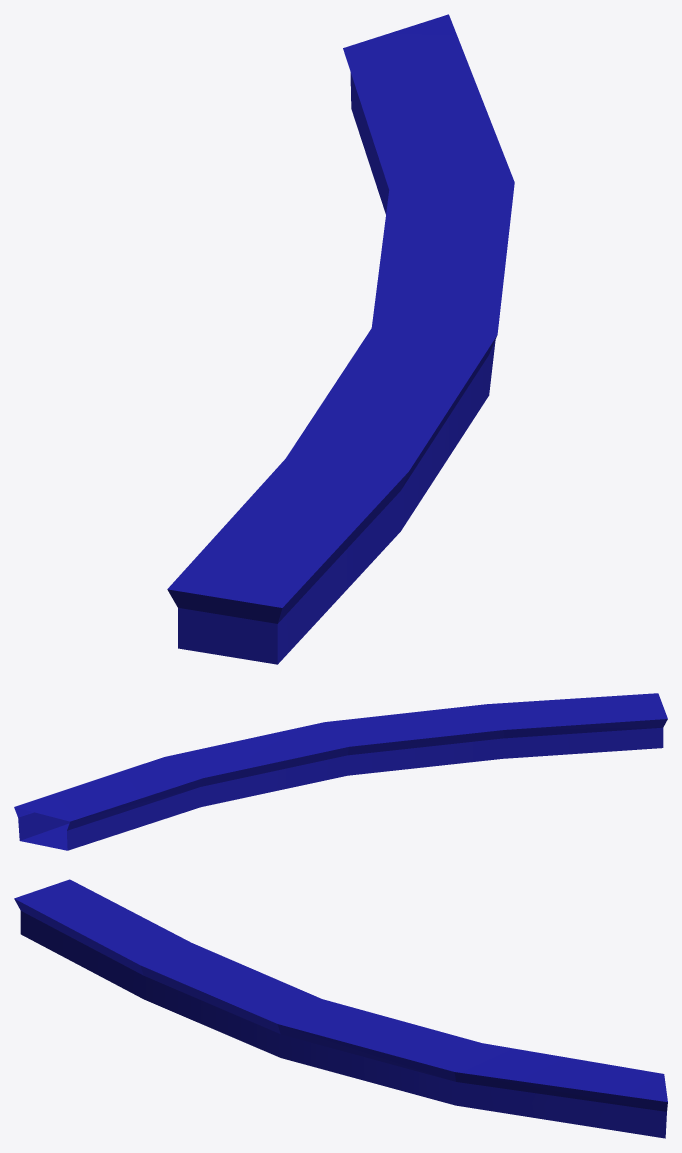
The model's file is Trilho_Curva.FBX.
3 renders of one model, top to bottom at view 1: azimuth 30°, elevation 25°; view 2: azimuth 150°, elevation 25°; view 3: azimuth 270°, elevation 25°, orthographic. The views are drawn at different scales.
Visible parts, largest first — view 1: Trilho_Curva; view 2: Trilho_Curva; view 3: Trilho_Curva.
Boxes of the visible parts, x1=… form: Trilho_Curva: x1=167, y1=14, x2=514, y2=664; Trilho_Curva: x1=14, y1=693, x2=667, y2=850; Trilho_Curva: x1=14, y1=879, x2=667, y2=1138.
Size of the model in its own units: 64.31 by 5.19 by 78.64.
